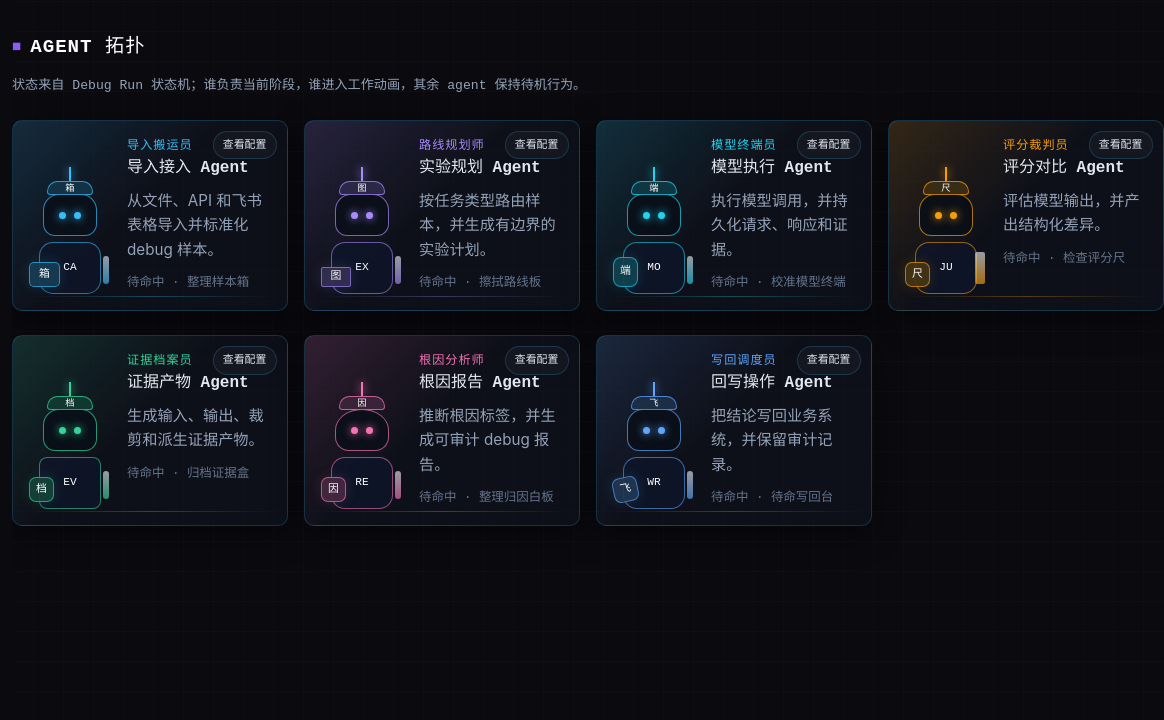
it: AgentTopologyPanel › opens the configuration drawer for 评分对比 Agent
What coordinates should you click on to do the following:
click the button with aria-label "打开评分对比 Agent配置"
I would click on:
 (1121, 145)
Its box is [1089,131,1153,159].
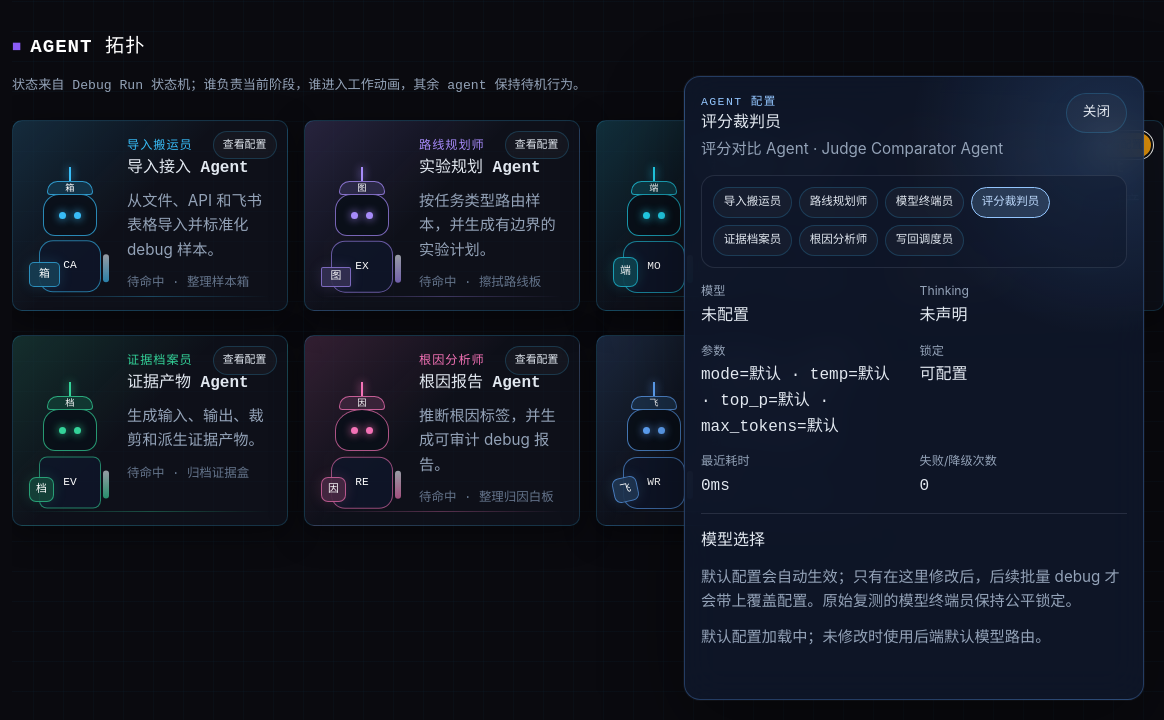
Now the element named "Agent 配置抽屉" is shown, box [684,76,1144,700]
Now the heading "评分裁判员" is shown, box [701,114,781,132]
Now the text "评分对比 Agent · Judge Comparator Agent" is shown, box [701,137,1003,161]
